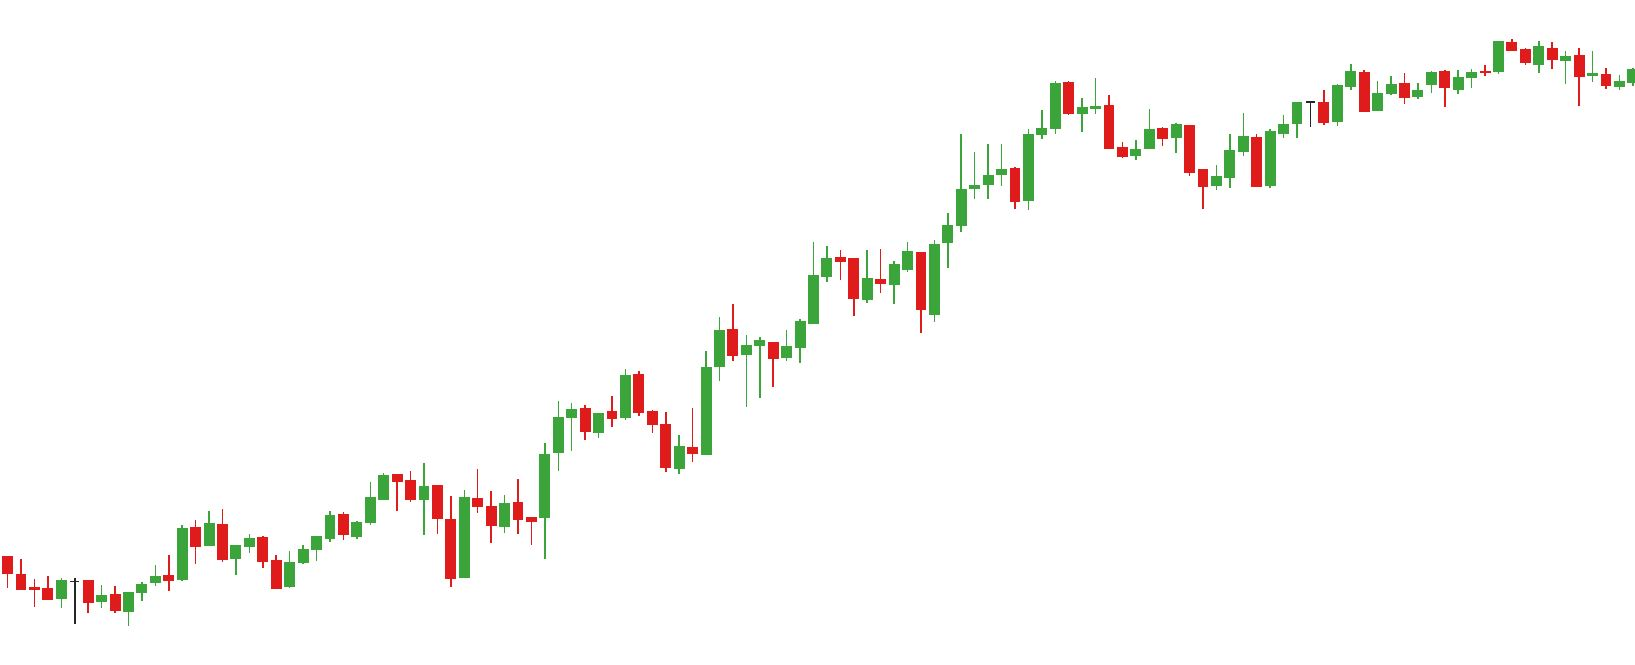buy: (336, 502, 473, 589), (846, 261, 942, 341)
